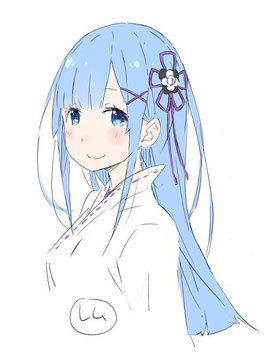rem: (41, 23, 213, 342)
